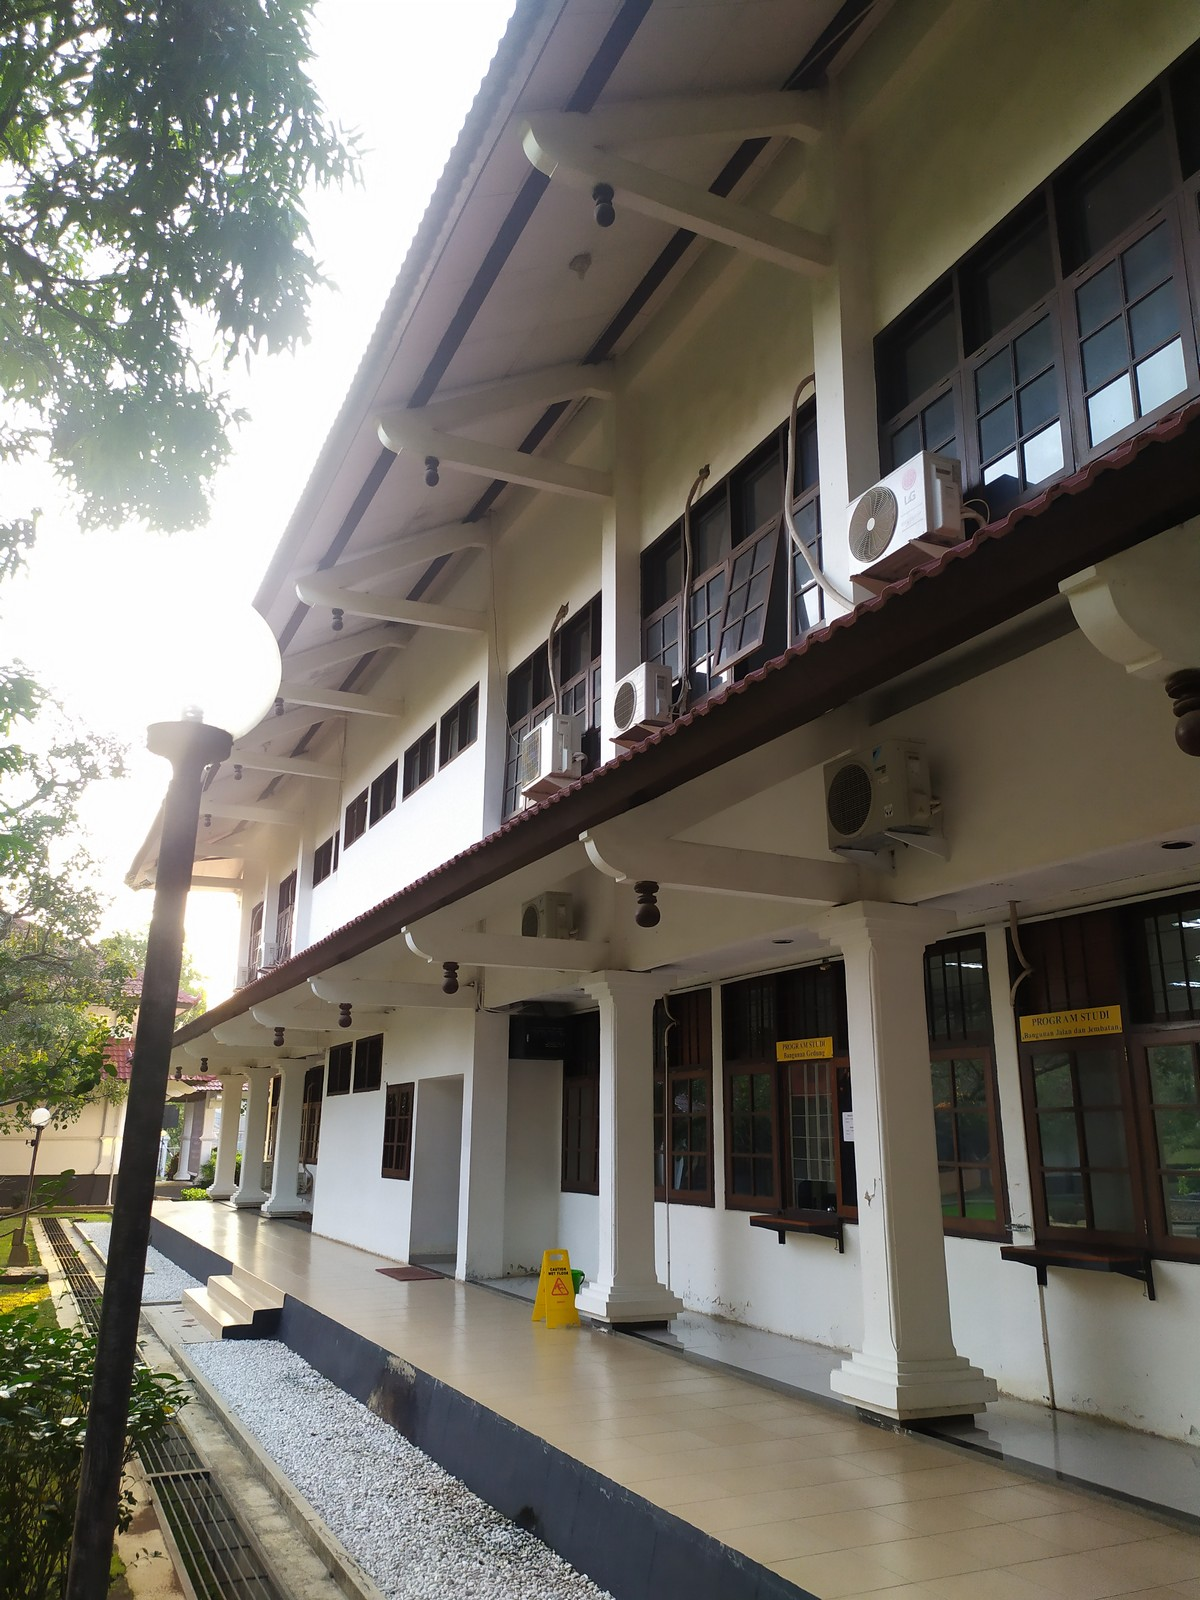concrete beam: (630, 169, 842, 289), (671, 839, 884, 913), (439, 427, 629, 505), (471, 923, 618, 979), (342, 585, 489, 636)
concrete column: (829, 939, 968, 1356), (798, 110, 897, 603), (592, 998, 666, 1289), (594, 380, 648, 748), (456, 1010, 516, 1284), (471, 540, 523, 829)
